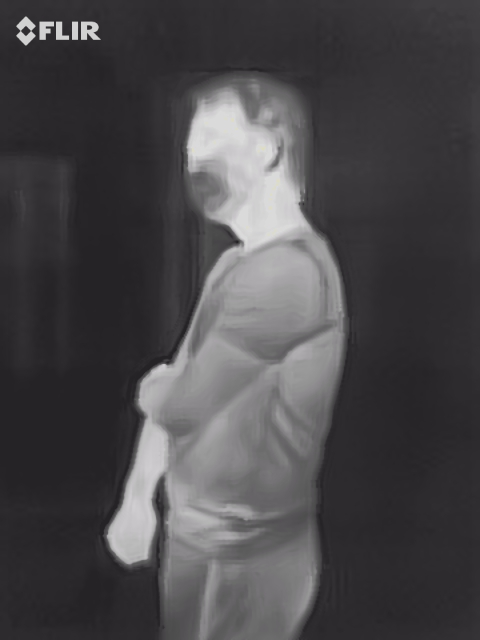head: (182, 68, 311, 223)
